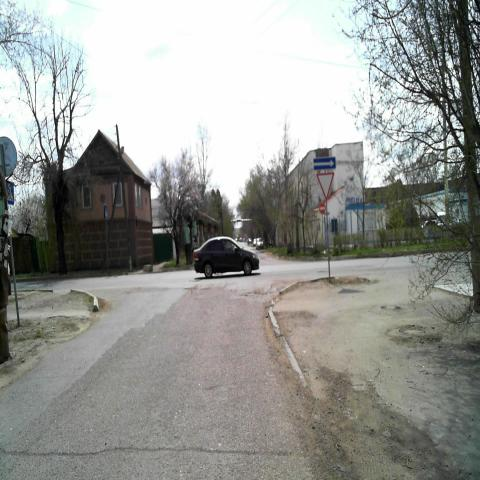5_7_1: (313, 156, 336, 170)
